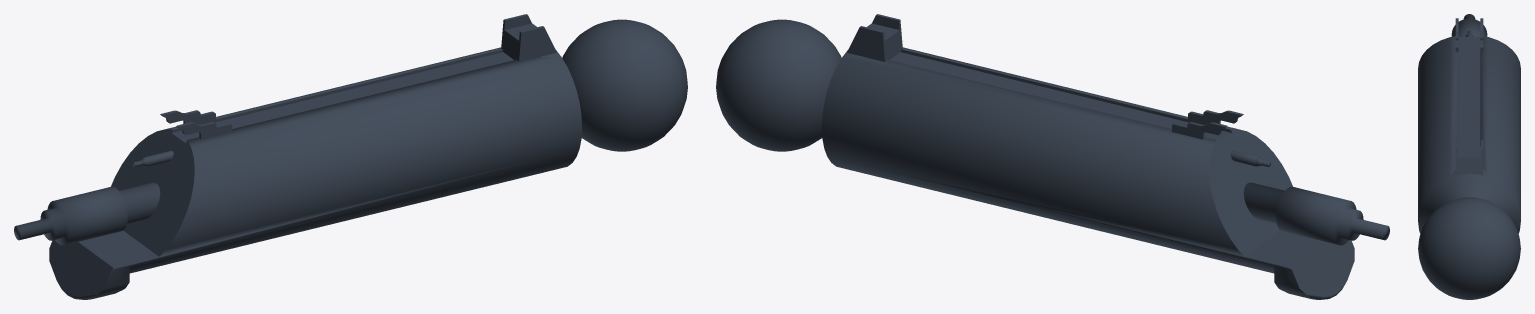
The model's file is BrasDroit-RobotPlayerBase.fbx.
3 views of the same model, side by side, from view 1: azimuth 30°, elevation 25°; view 2: azimuth 150°, elevation 25°; view 3: azimuth 270°, elevation 25° (orthographic). The views are drawn at different scales.
Visible parts, largest first — view 1: Bras, Sphere, CanonBas, ViseurDebut, viseurBout; view 2: Bras, Sphere, CanonBas, ViseurDebut, viseurBout; view 3: Bras, Sphere, ViseurDebut, CanonBas, viseurBout.
Boxes of the visible parts, box(x1,y1,x2,y2) form: Bras: box(49, 47, 582, 299); Sphere: box(562, 19, 687, 151); CanonBas: box(14, 182, 160, 245); ViseurDebut: box(501, 14, 556, 61); viseurBout: box(160, 110, 231, 139); Bras: box(821, 47, 1354, 299); Sphere: box(716, 19, 841, 151); CanonBas: box(1243, 182, 1389, 245); ViseurDebut: box(847, 14, 902, 61); viseurBout: box(1172, 110, 1243, 139); Bras: box(1418, 36, 1520, 233); Sphere: box(1418, 197, 1520, 299); ViseurDebut: box(1455, 140, 1483, 175); CanonBas: box(1451, 14, 1487, 36); viseurBout: box(1455, 18, 1483, 53).
Size of the model in its own units: 1250 by 294 by 217.
